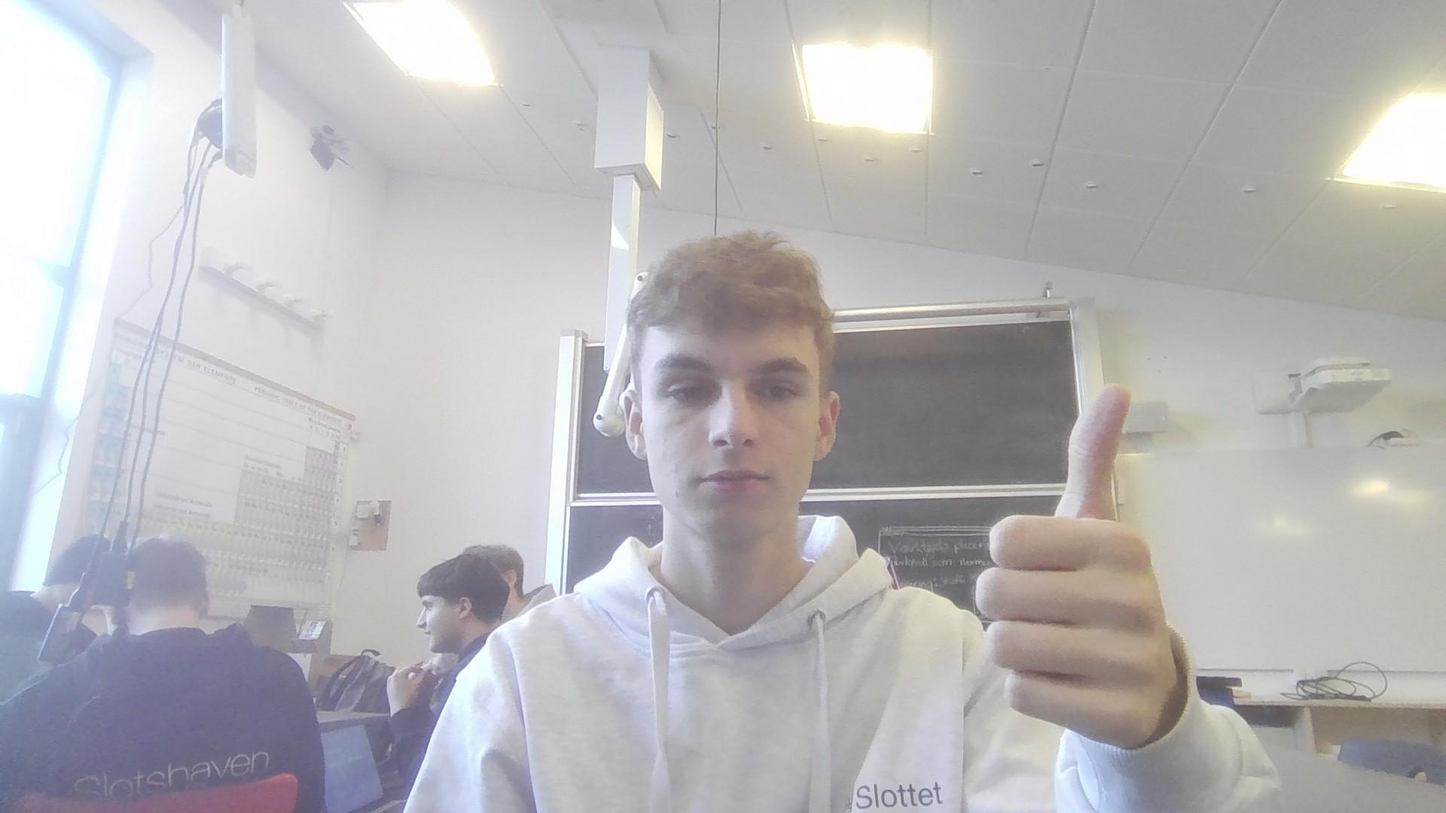thumbs up: (970, 369, 1181, 724)
